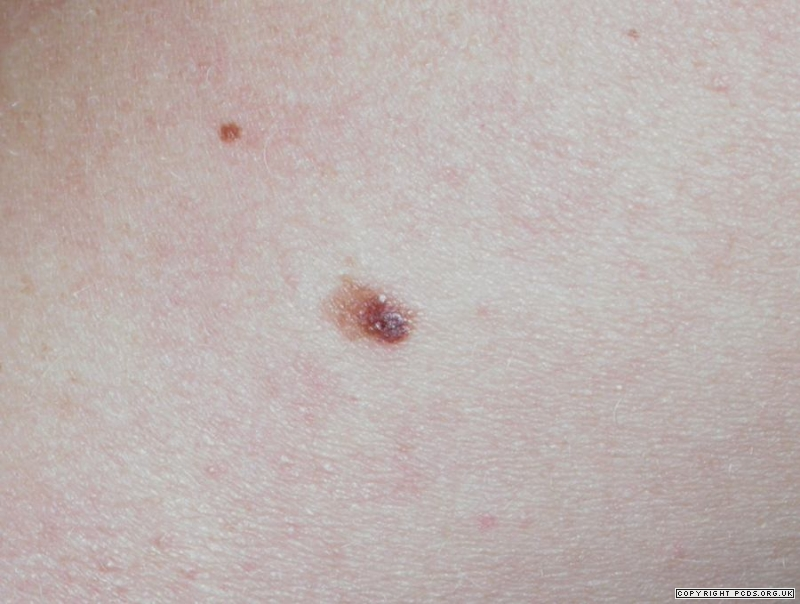Melanoma: (322, 273, 426, 358)
